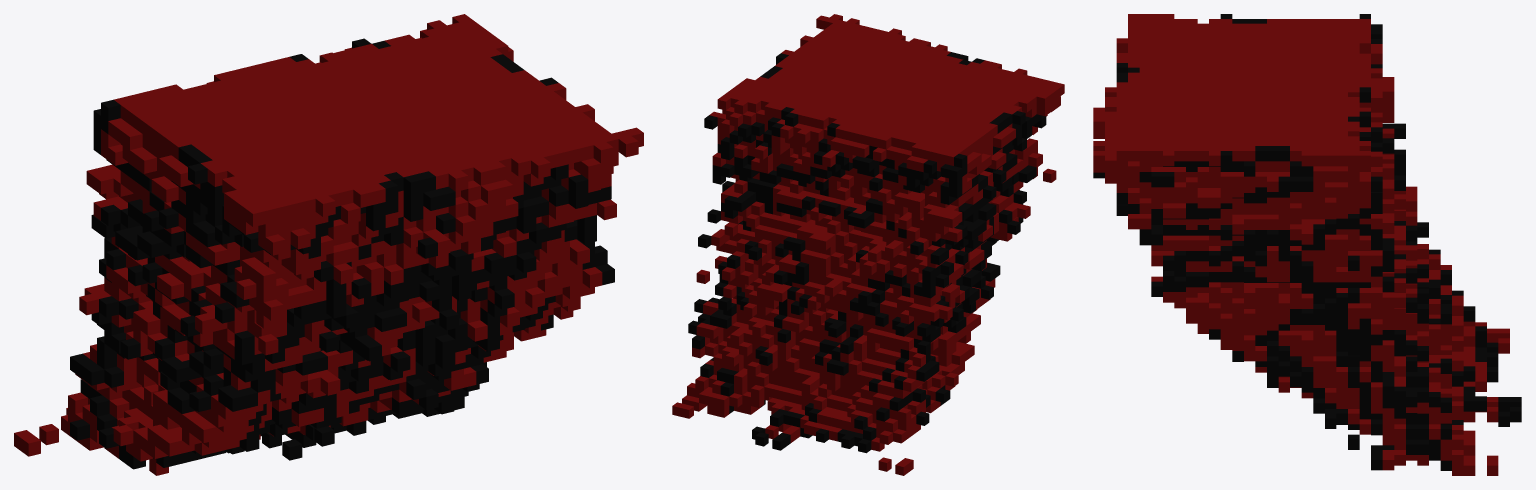
The model's file is skelet-3.obj.
The picture shows the model from 3 angles, left to right: view 1: azimuth 30°, elevation 25°; view 2: azimuth 150°, elevation 25°; view 3: azimuth 270°, elevation 25°; orthographic projection. The views are drawn at different scales.
Bounding box in the file's own units: 3 × 3.1 × 3.7.
Materials: 1 (1 with a texture image).
